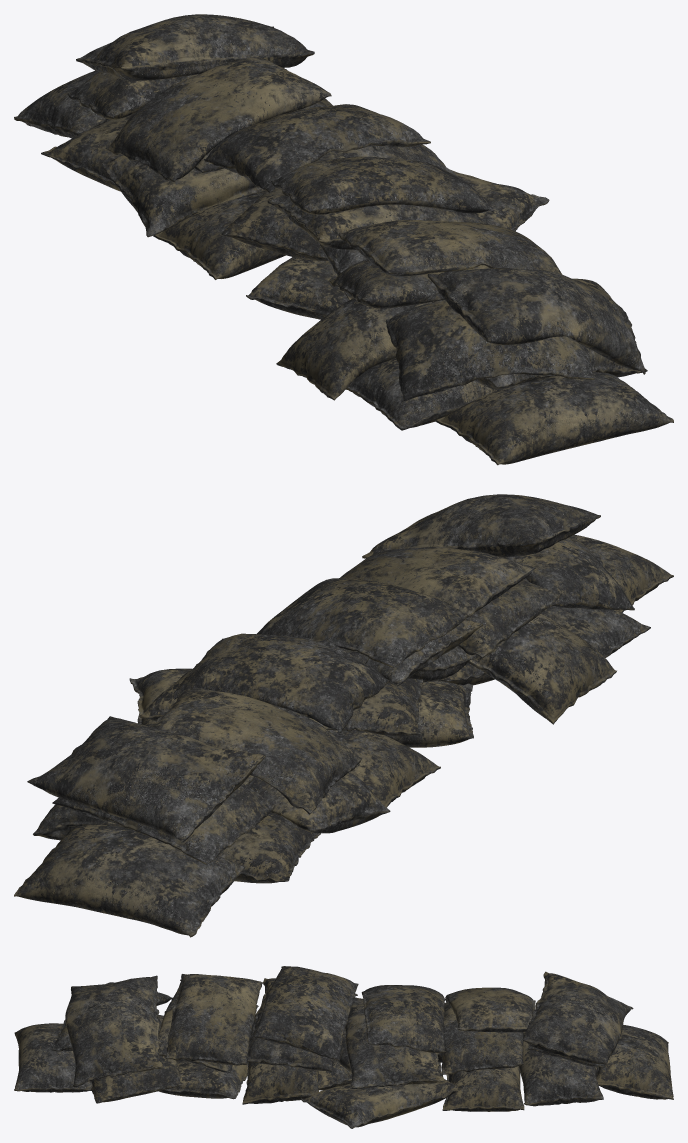
Rendered from ww2-sandbag-stack-02b-smoked.glb.
3 views of the same model, one above another, from view 1: azimuth 30°, elevation 25°; view 2: azimuth 150°, elevation 25°; view 3: azimuth 270°, elevation 25° (orthographic). The views are drawn at different scales.
Visible parts, largest first — view 1: SM_WW2_SandbagStack02b_c1_LOD0; view 2: SM_WW2_SandbagStack02b_c1_LOD0; view 3: SM_WW2_SandbagStack02b_c1_LOD0.
Part boxes in pixels (bbox=[...]): SM_WW2_SandbagStack02b_c1_LOD0: bbox=[14, 14, 673, 465]; SM_WW2_SandbagStack02b_c1_LOD0: bbox=[14, 494, 673, 937]; SM_WW2_SandbagStack02b_c1_LOD0: bbox=[14, 966, 673, 1128].
Size of the model in its own units: 1.57 by 0.5694 by 3.75.
Materials: 1 (1 with a texture image).
